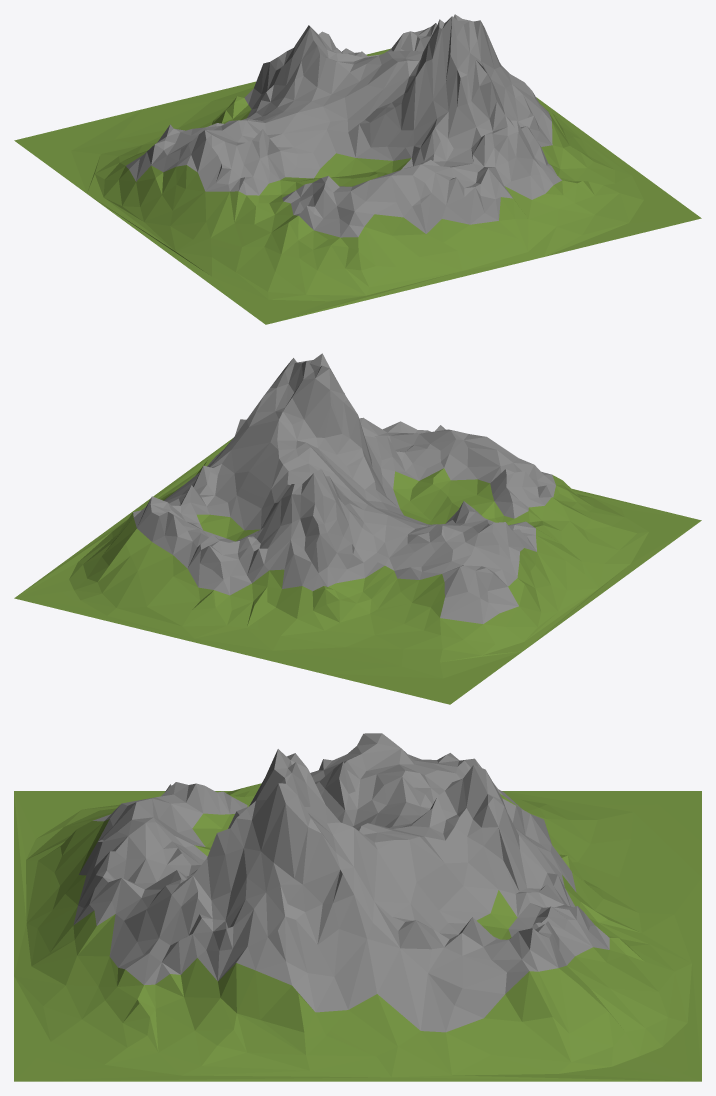
Rendered from Landscape_04.fbx.
The picture shows the model from 3 angles, top to bottom: view 1: azimuth 30°, elevation 25°; view 2: azimuth 150°, elevation 25°; view 3: azimuth 270°, elevation 25°; orthographic projection. The views are drawn at different scales.
Parts seen in each view (by area): view 1: Landscape_04; view 2: Landscape_04; view 3: Landscape_04.
Part boxes in pixels (<box>): Landscape_04: <box>14,14,701,324</box>; Landscape_04: <box>14,353,701,704</box>; Landscape_04: <box>14,733,701,1081</box>.
Size of the model in its own units: 10000 by 3704 by 10000.
